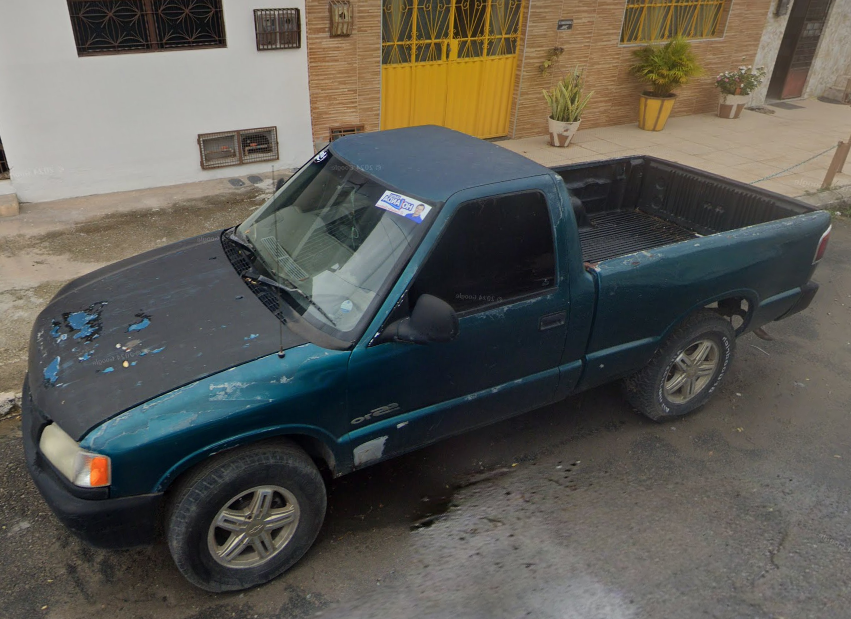car: (27, 128, 821, 593)
